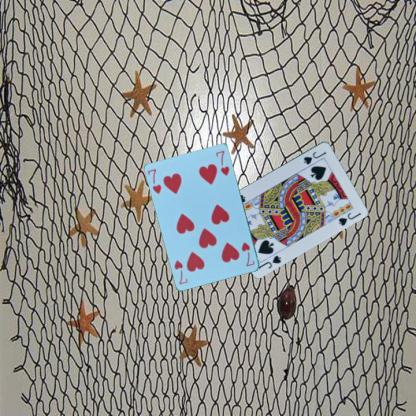7h: (146, 166, 163, 196), (239, 240, 256, 267)
Js: (301, 148, 328, 166), (256, 252, 283, 270)
